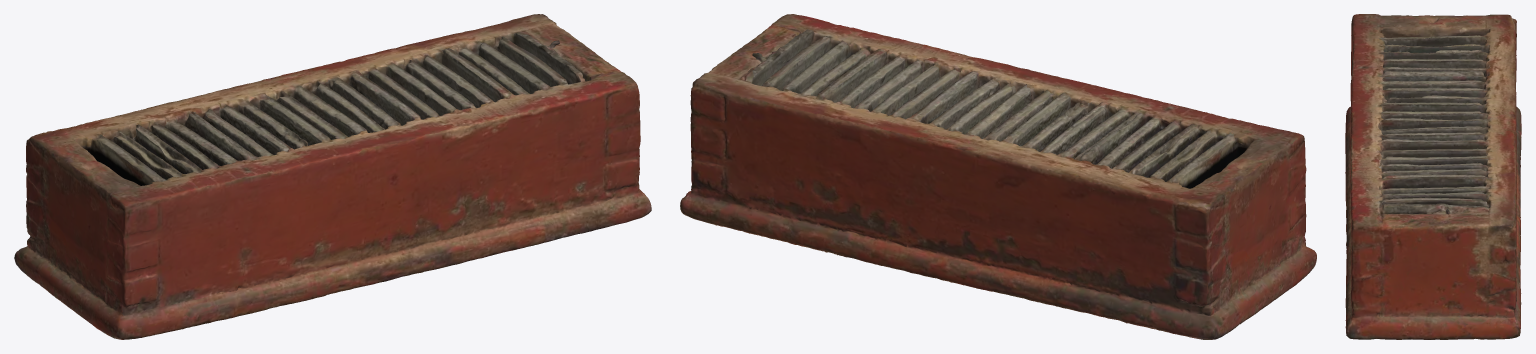
File: si-henry-trough-battery.glb
3 renders of one model, left to right at view 1: azimuth 30°, elevation 25°; view 2: azimuth 150°, elevation 25°; view 3: azimuth 270°, elevation 25°, orthographic. The views are drawn at different scales.
Bounding box in the file's own units: 0.1994 × 0.0505 × 0.0682.
1 material, 1 textured.
